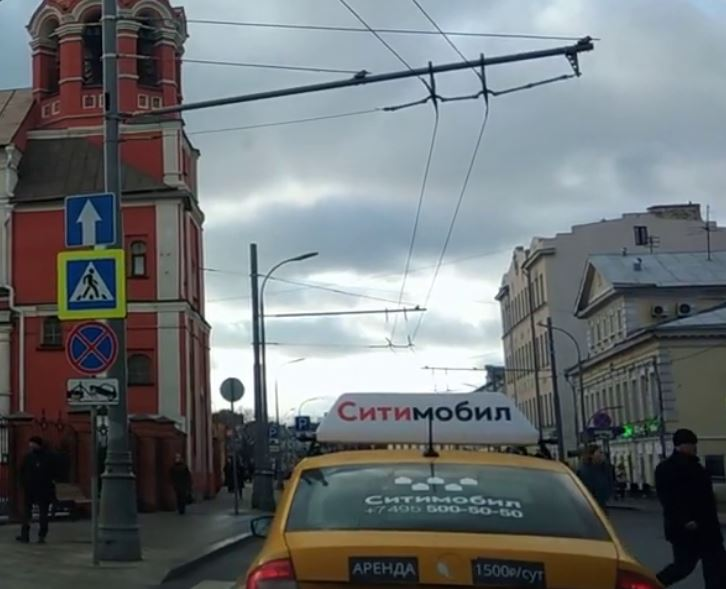Yaya Gecidi: (59, 257, 120, 313)
